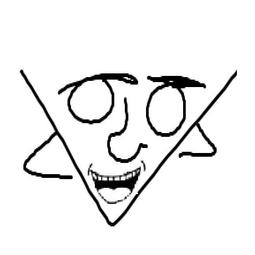ear: (18, 127, 74, 184), (177, 124, 226, 170)
empty_eye: (64, 73, 117, 126), (144, 82, 189, 141)
large_nose: (103, 95, 151, 164)
open_mouth: (90, 162, 143, 207)
